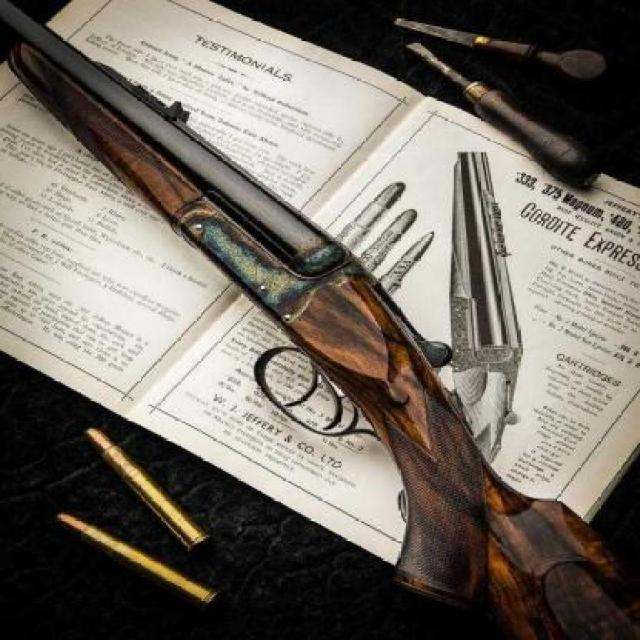weapon: (0, 0, 640, 640), (436, 146, 524, 464)
